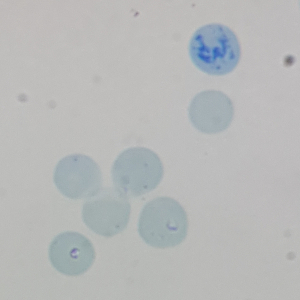aggregate reticulocyte: (187, 22, 243, 77)
erythrocyte: (136, 195, 190, 250), (80, 187, 133, 239), (187, 88, 237, 137), (47, 230, 97, 278)
punctate reticulocyte: (109, 145, 166, 198), (52, 153, 105, 203)
